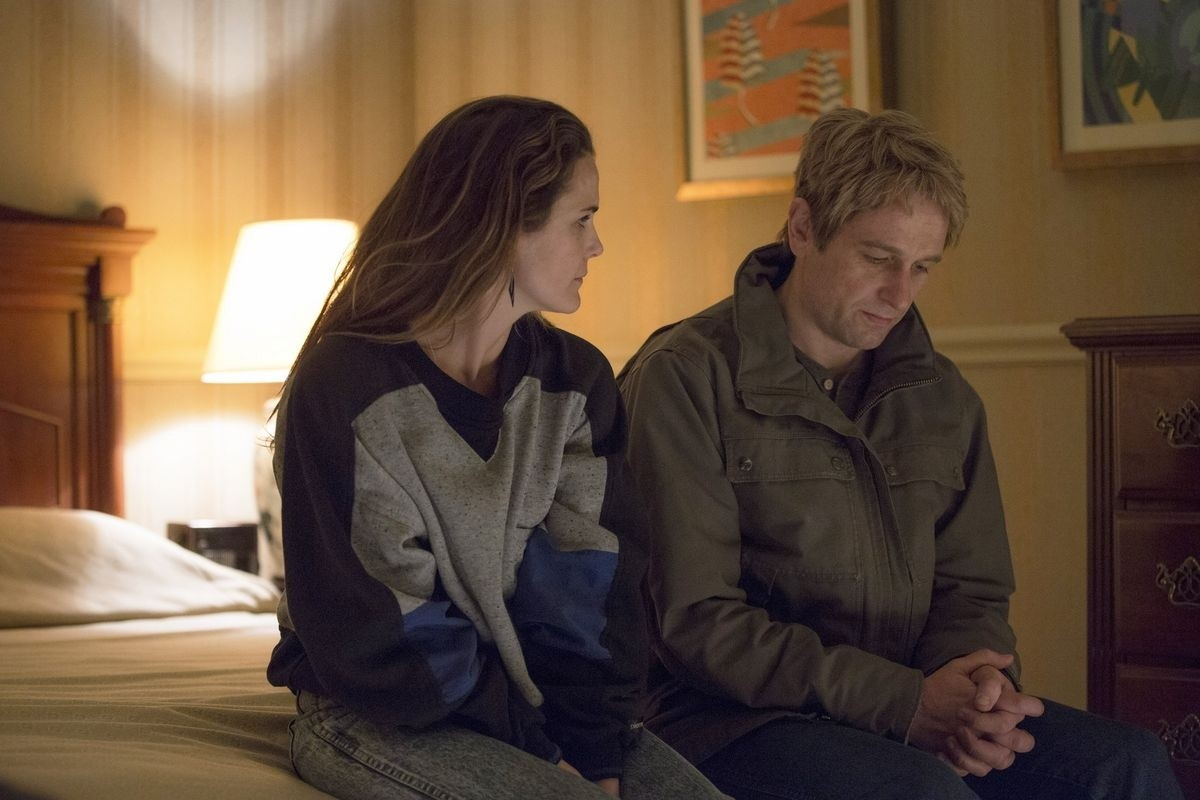face_no_mask: (782, 108, 966, 347), (436, 92, 603, 316)
